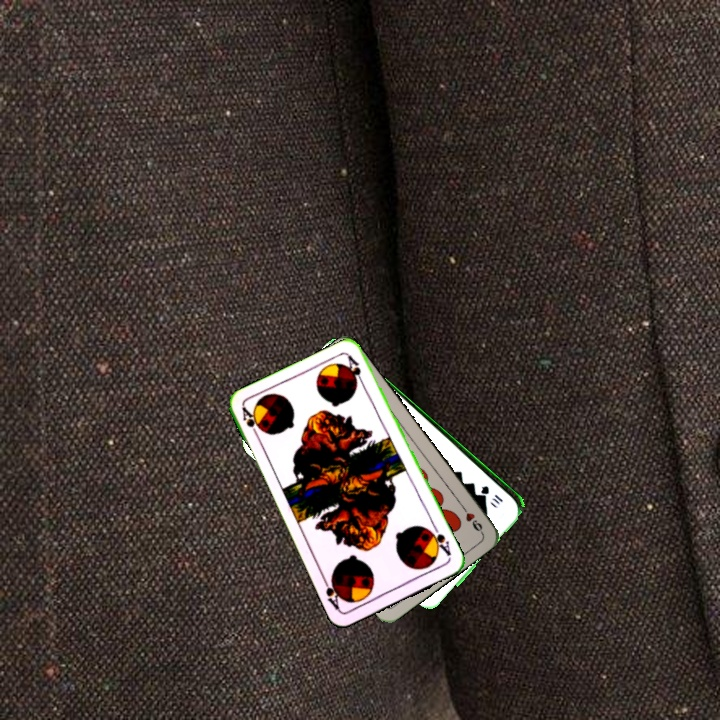G10: (477, 481, 506, 505)
H9: (457, 500, 485, 536)
SA: (424, 521, 454, 559), (238, 403, 265, 442)
